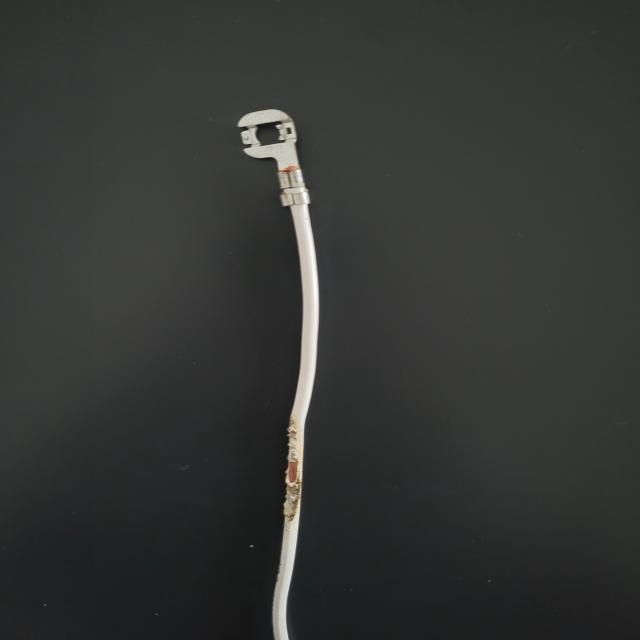defect: (244, 413, 358, 543)
